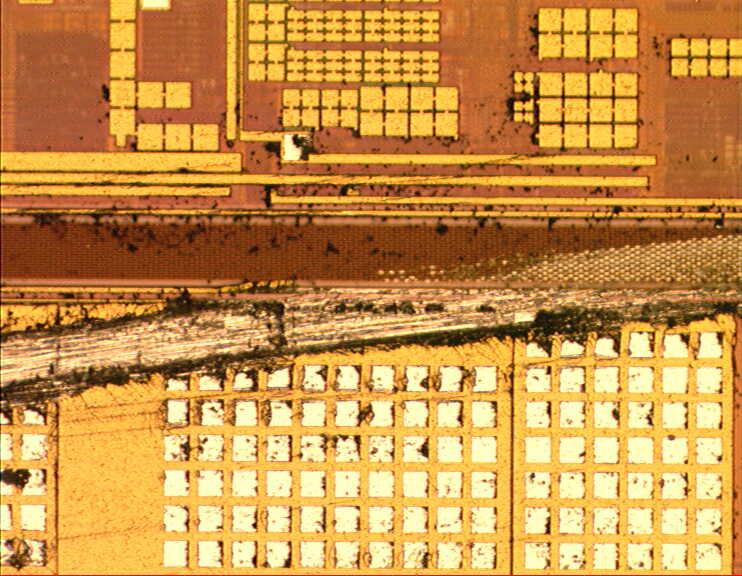SCRATCH: (1, 222, 742, 427)
